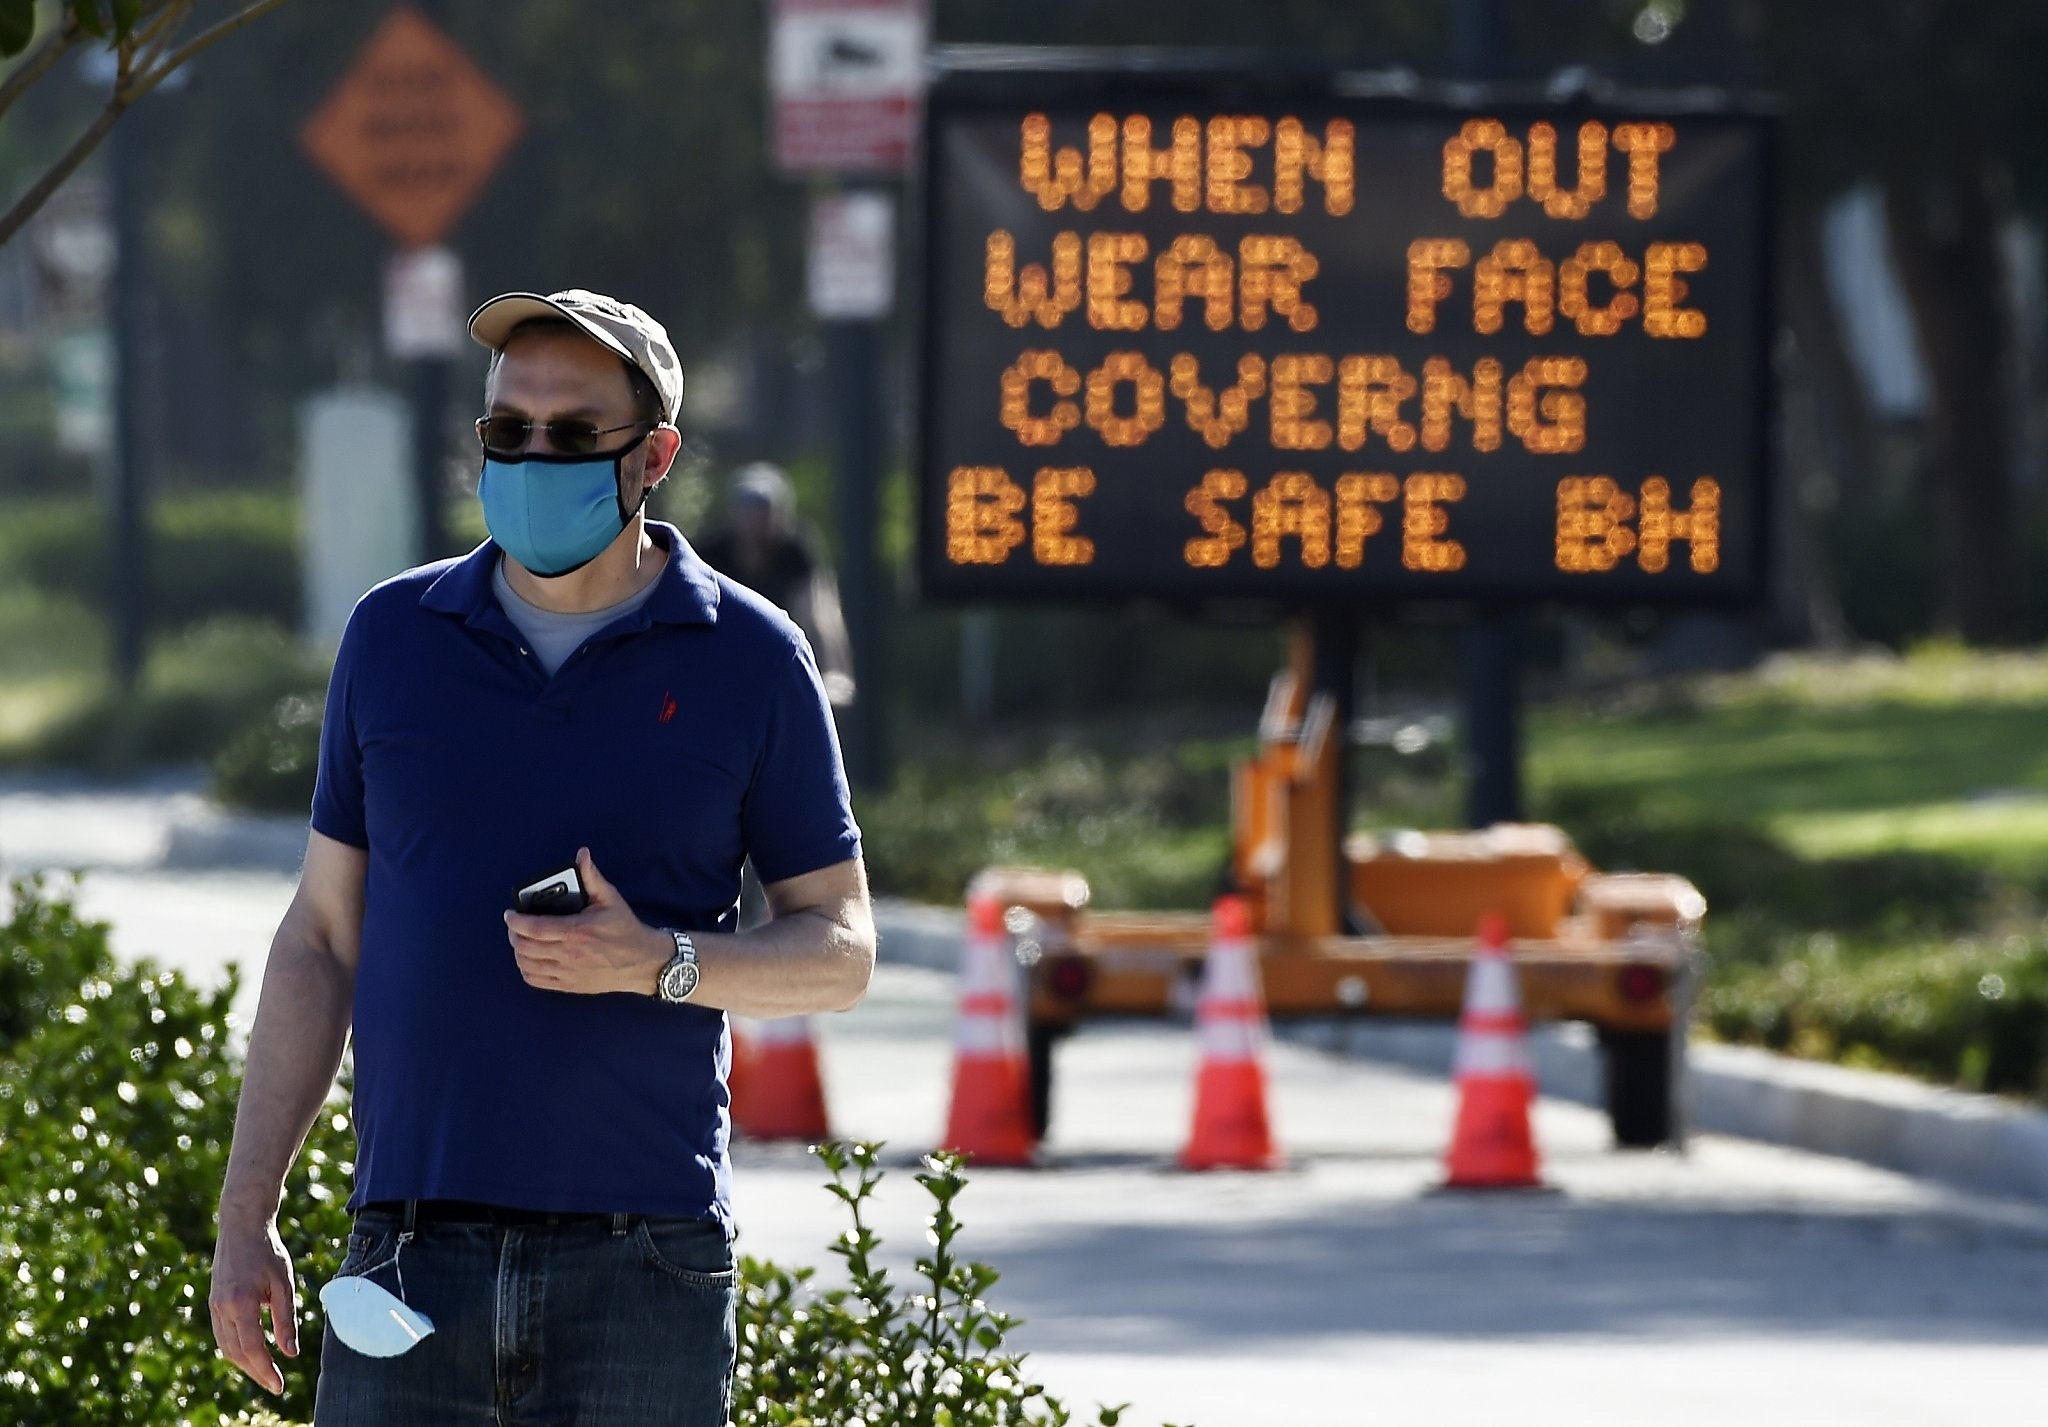face_with_mask: (467, 298, 681, 586)
